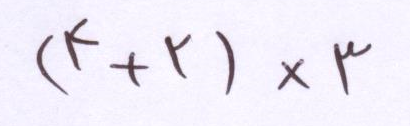character: (333, 41, 370, 99), (36, 34, 67, 99), (64, 18, 99, 75), (109, 52, 146, 86), (164, 34, 191, 79), (215, 31, 233, 93), (277, 59, 310, 90)
